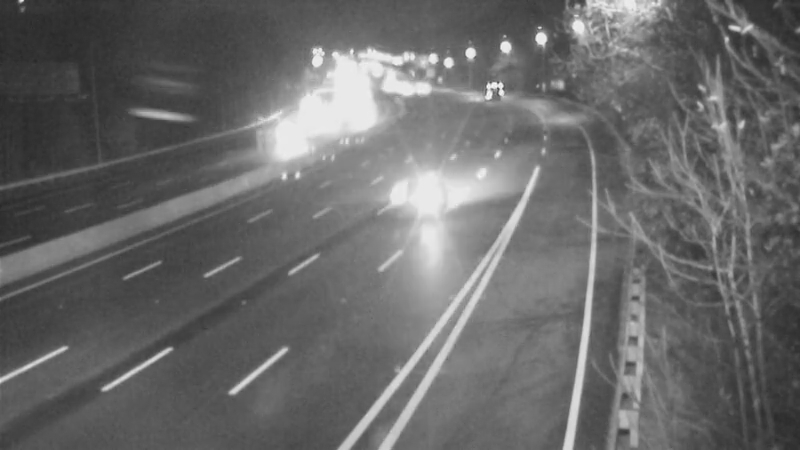vehicle: (365, 149, 445, 229), (464, 57, 514, 107), (260, 114, 310, 164)
